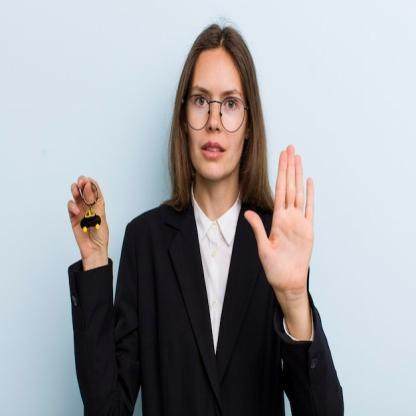stop: (242, 140, 318, 298)
